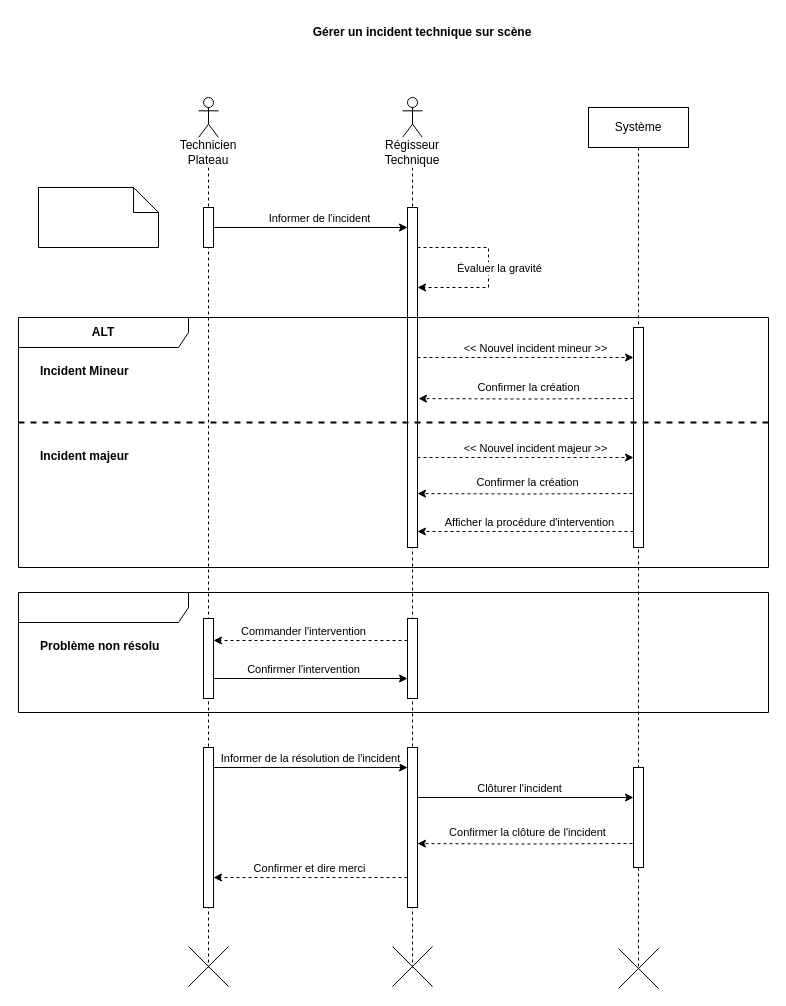
Some shapes in this 786 by 1006 pixel diagram are drawn without their labels. Each missing label, with the centre of its shape:
"Détection d'un incident" goes at point (98, 217).
"LOOP" goes at point (393, 652).
